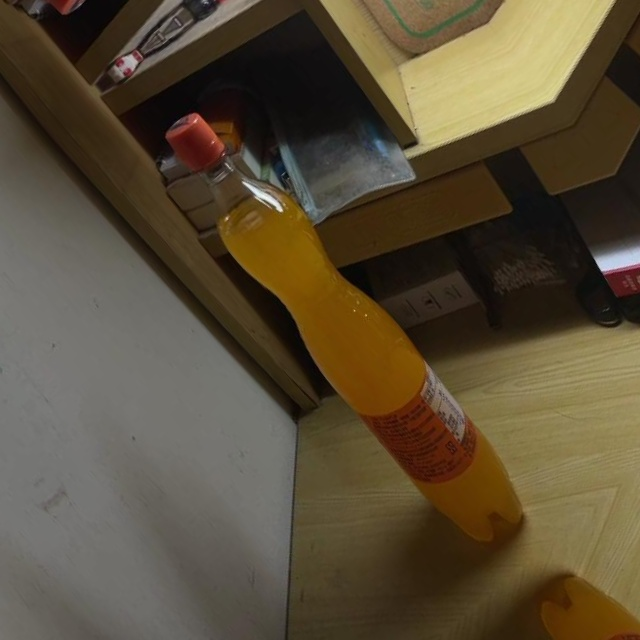Fanta: (137, 96, 549, 563)
